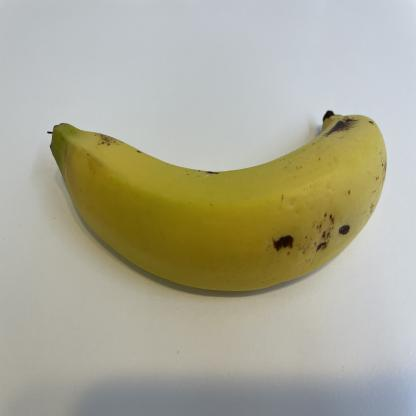banana: (50, 106, 388, 294)
